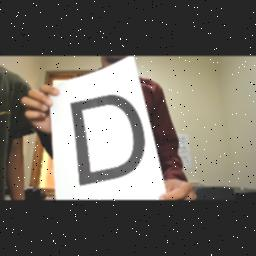d: (67, 94, 149, 188)
